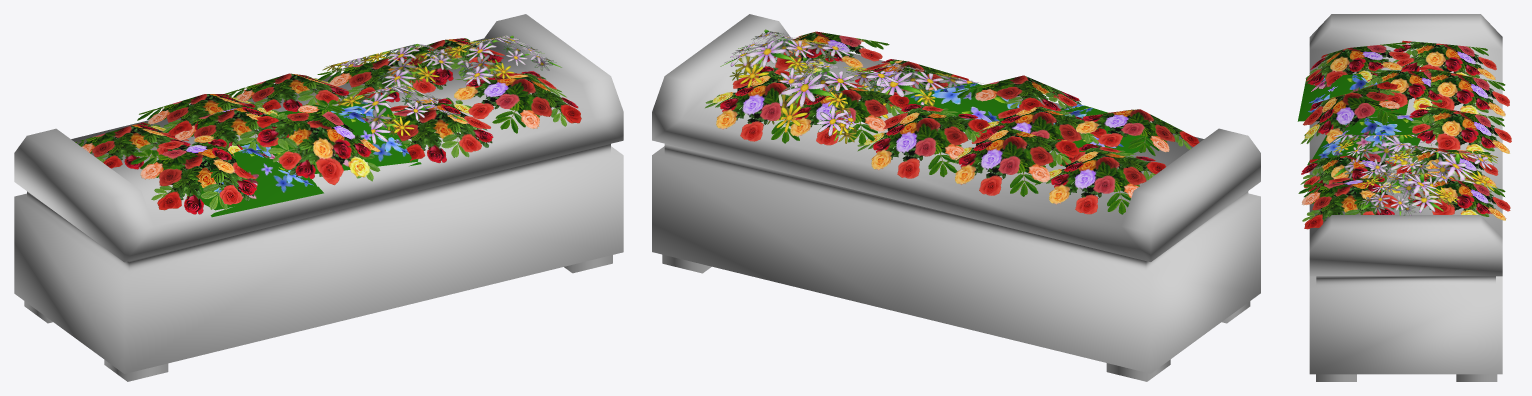
File: flower garden.fbx
The picture shows the model from 3 angles, left to right: view 1: azimuth 30°, elevation 25°; view 2: azimuth 150°, elevation 25°; view 3: azimuth 270°, elevation 25°; orthographic projection. The views are drawn at different scales.
Parts seen in each view (by area): view 1: polySurface17, polySurface16; view 2: polySurface17, polySurface16; view 3: polySurface17, polySurface16.
Part boxes in pixels (bbox=[...]): polySurface17: bbox=[14, 14, 623, 381]; polySurface16: bbox=[75, 35, 581, 217]; polySurface17: bbox=[652, 14, 1260, 381]; polySurface16: bbox=[705, 29, 1199, 214]; polySurface17: bbox=[1309, 14, 1502, 381]; polySurface16: bbox=[1297, 40, 1511, 229].
Bounding box in the file's own units: 16.08 × 6.25 × 7.27.
